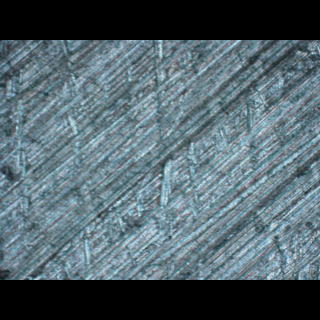d: (149, 137, 203, 222)
